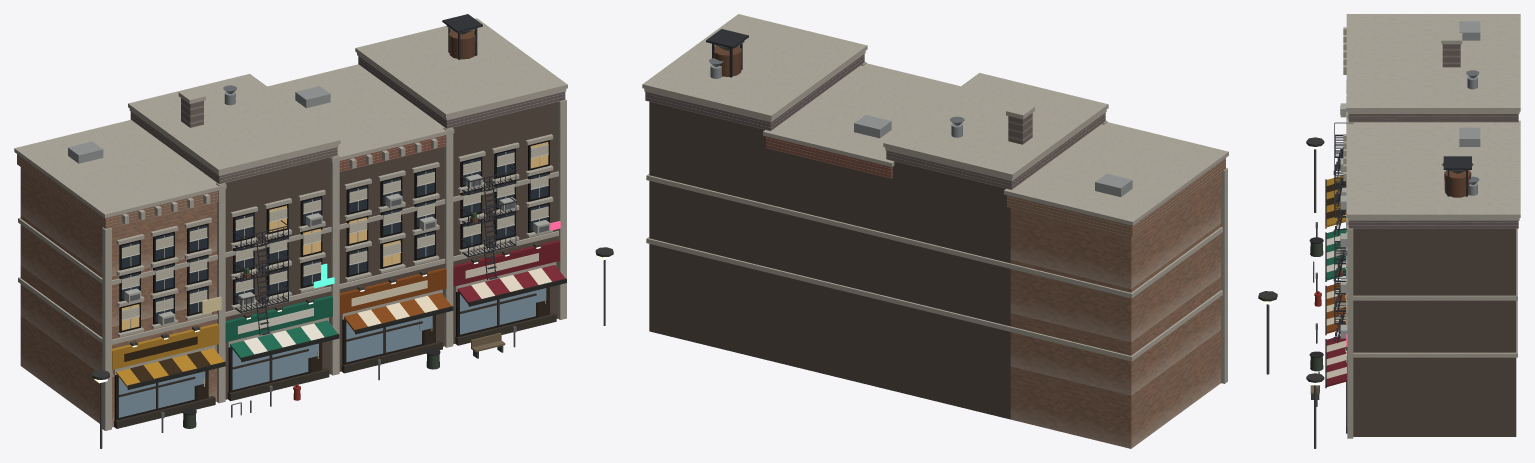
The model's file is jersey_shops2.glb.
The picture shows the model from 3 angles, left to right: view 1: azimuth 30°, elevation 25°; view 2: azimuth 150°, elevation 25°; view 3: azimuth 270°, elevation 25°; orthographic projection. The views are drawn at different scales.
Size of the model in its own units: 38.4 by 18.72 by 14.3.
10 materials, 10 textured.
